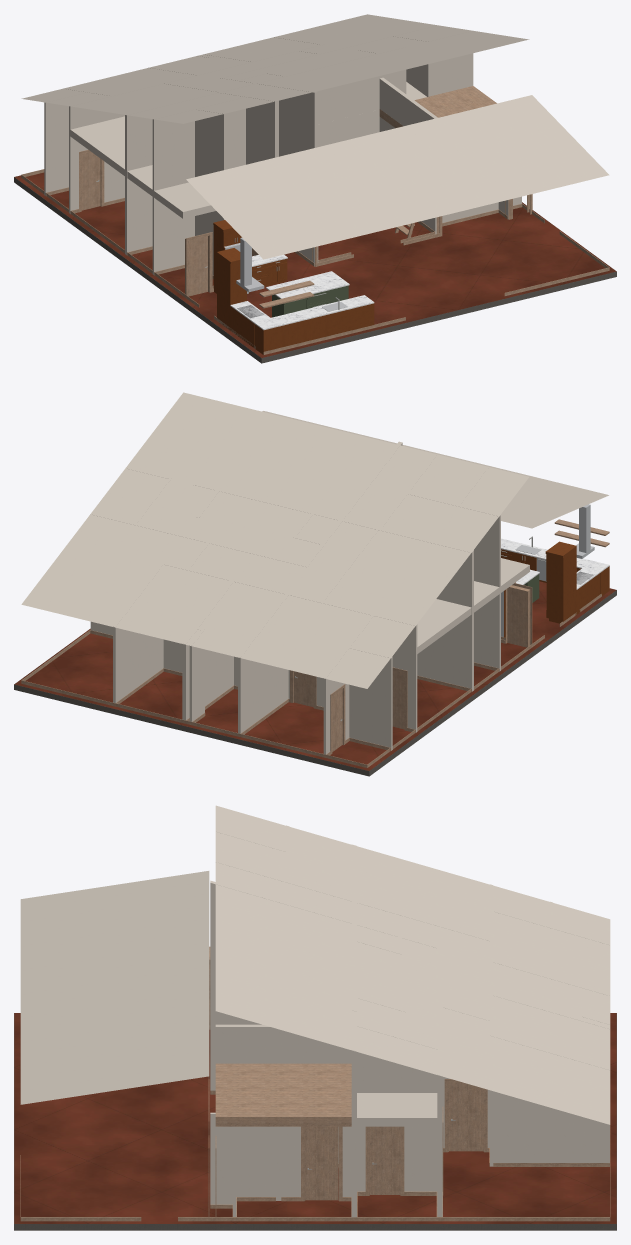
The model's file is interior.glb.
The picture shows the model from 3 angles, top to bottom: view 1: azimuth 30°, elevation 25°; view 2: azimuth 150°, elevation 25°; view 3: azimuth 270°, elevation 25°; orthographic projection. The views are drawn at different scales.
Visible parts, largest first — view 1: Vault ceiling south, Slab, Vault ceiling north, Int wall 42, Int wall 0, Int wall 39, Int wall 47, Int wall 43, Int wall 32, Slab edge.001, Flat ceiling 0, Int wall 8 (+20 smaller); view 2: Vault ceiling north, Slab, Int wall 39, Vault ceiling south, Int wall 42, Int wall 32, Int wall 31, Int wall 24, Slab edge, Kitchen west 0 oven_tower carcass, Flat ceiling 0, Slab edge.002 (+16 smaller); view 3: Vault ceiling north, Slab, Vault ceiling south, Loft floor, Int wall 24, Int wall 8, Slab edge.003, Int wall 19, Int wall 13, Flat ceiling 4, Door leaf.005, Door leaf.008 (+11 smaller).
Part boxes in pixels (x1=…): Vault ceiling south: x1=186, y1=95, x2=609, y2=259; Slab: x1=14, y1=172, x2=616, y2=357; Vault ceiling north: x1=21, y1=14, x2=529, y2=123; Int wall 42: x1=152, y1=96, x2=249, y2=274; Int wall 0: x1=250, y1=47, x2=406, y2=146; Int wall 39: x1=125, y1=90, x2=226, y2=255; Int wall 47: x1=273, y1=85, x2=318, y2=266; Int wall 43: x1=195, y1=108, x2=227, y2=275; Int wall 32: x1=44, y1=91, x2=89, y2=195; Slab edge.001: x1=261, y1=271, x2=616, y2=363; Flat ceiling 0: x1=70, y1=116, x2=124, y2=175; Int wall 8: x1=379, y1=77, x2=437, y2=234; Vault ceiling north: x1=21, y1=392, x2=528, y2=688; Slab: x1=14, y1=581, x2=616, y2=770; Int wall 39: x1=371, y1=525, x2=473, y2=691; Vault ceiling south: x1=262, y1=411, x2=608, y2=528; Int wall 42: x1=404, y1=491, x2=500, y2=671; Int wall 32: x1=347, y1=646, x2=392, y2=750; Int wall 31: x1=238, y1=594, x2=288, y2=733; Int wall 24: x1=113, y1=564, x2=163, y2=703; Slab edge: x1=14, y1=684, x2=369, y2=776; Kitchen west 0 oven_tower carcass: x1=546, y1=548, x2=576, y2=621; Flat ceiling 0: x1=417, y1=599, x2=471, y2=653; Slab edge.002: x1=369, y1=590, x2=616, y2=776; Vault ceiling north: x1=215, y1=805, x2=610, y2=1124; Slab: x1=14, y1=1013, x2=616, y2=1223; Vault ceiling south: x1=20, y1=871, x2=209, y2=1104; Loft floor: x1=215, y1=1063, x2=351, y2=1126; Int wall 24: x1=493, y1=1035, x2=609, y2=1162; Int wall 8: x1=215, y1=1024, x2=351, y2=1163; Slab edge.003: x1=14, y1=1224, x2=616, y2=1230; Int wall 19: x1=401, y1=1037, x2=437, y2=1191; Int wall 13: x1=236, y1=1126, x2=275, y2=1196; Flat ceiling 4: x1=357, y1=1093, x2=442, y2=1126; Door leaf.005: x1=305, y1=1126, x2=338, y2=1200; Door leaf.008: x1=449, y1=1082, x2=483, y2=1151.
Bounding box in the file's own units: 13.14 × 6.34 × 15.86.
12 materials, 6 textured.
